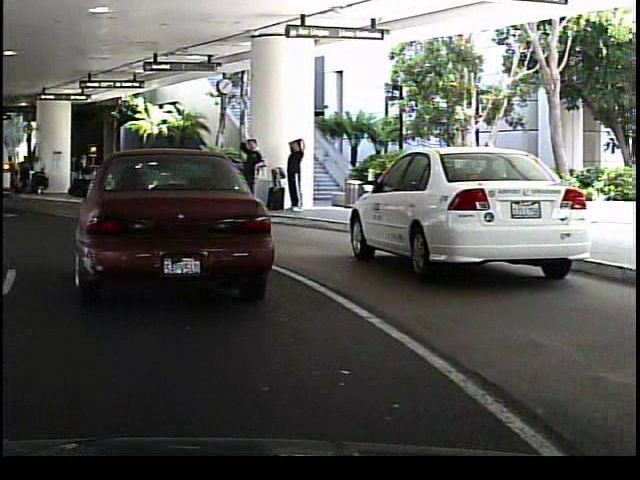person: (235, 132, 262, 213), (283, 133, 306, 213), (291, 147, 314, 210), (129, 155, 145, 195)
